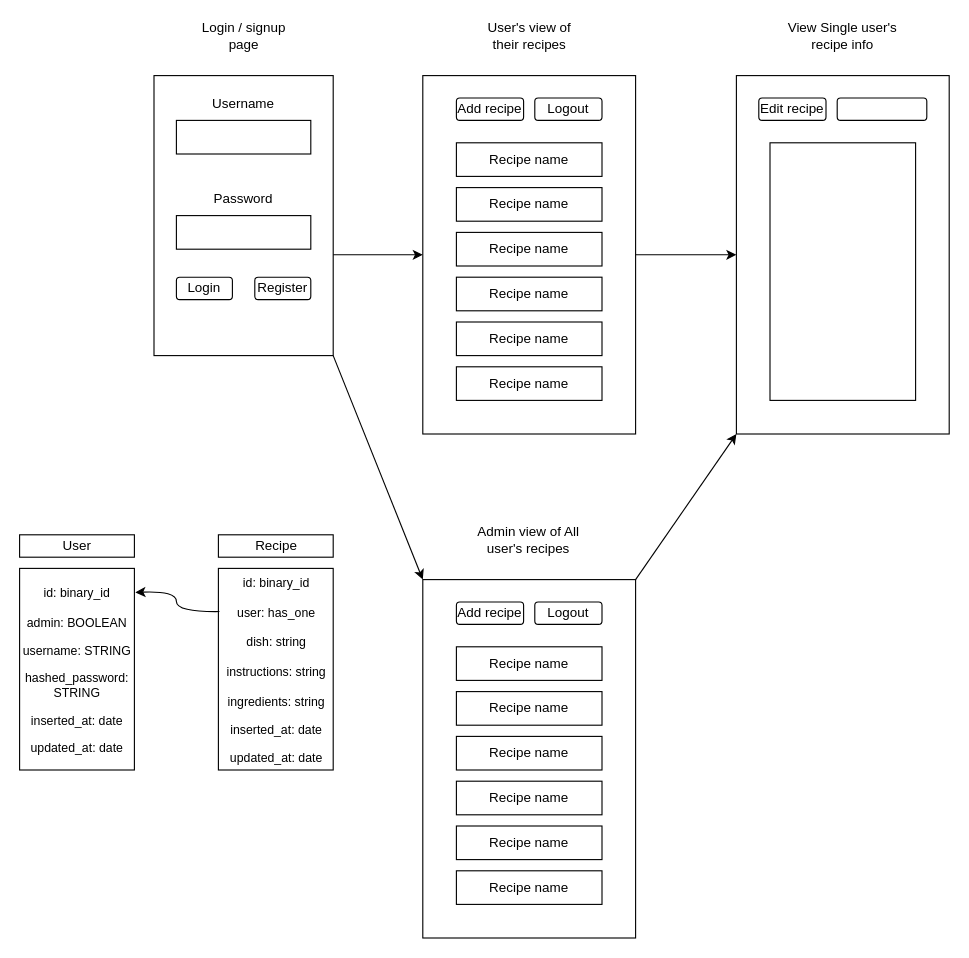
Image size: 969x958. Some labels were removed from this diagram. The shapes that lost their labels are listed below. From the top down, each one's centre as x and y in pixels, then its label:
[881,108]: Delete recipe
[842,271]: Recipe info
